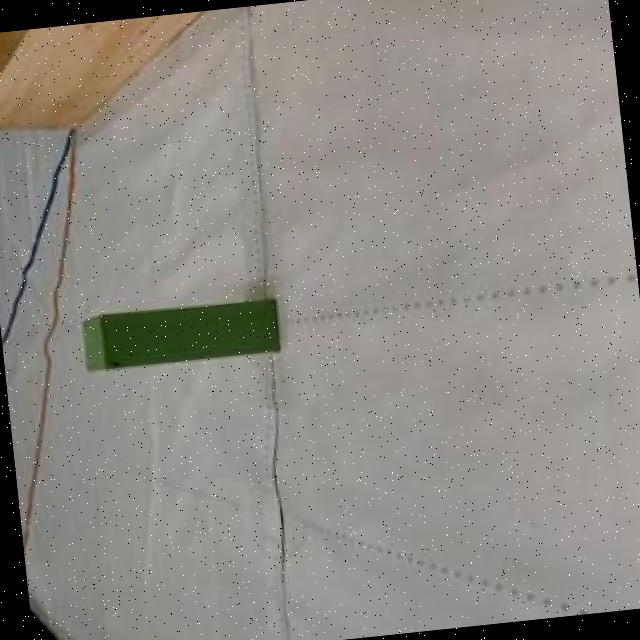greenbox: (80, 295, 278, 371)
